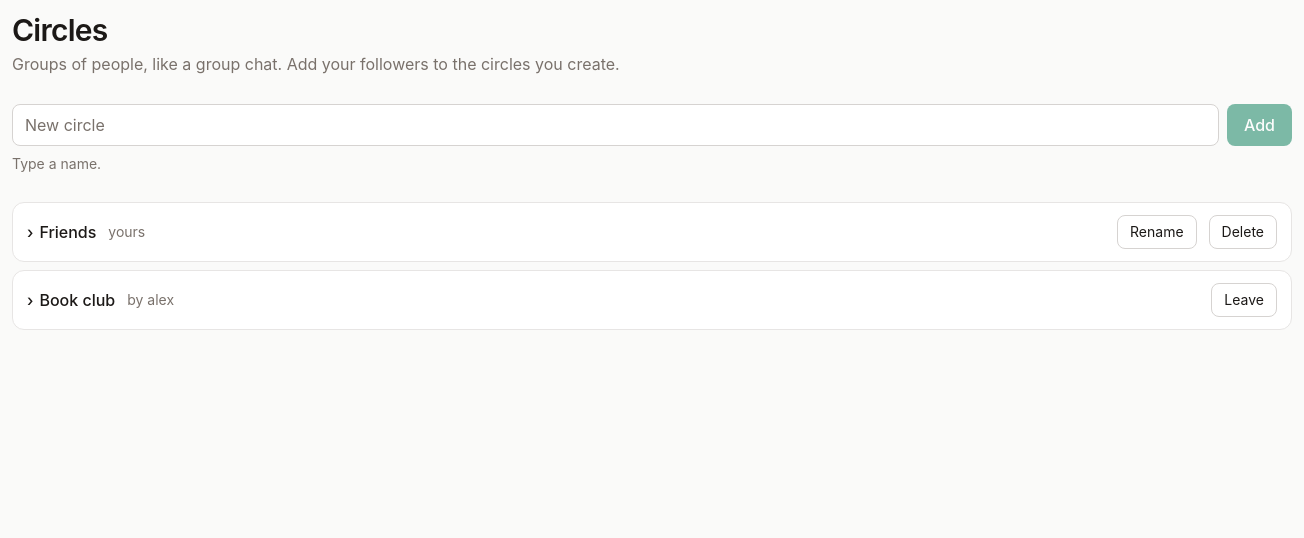
Scenario: Circles › explains a refused change in words, not the API's raw reply
What coordinates should you click on to do the following:
click the button "› Friends"
I would click on:
 (62, 232)
Its box is [27,220,96,244].
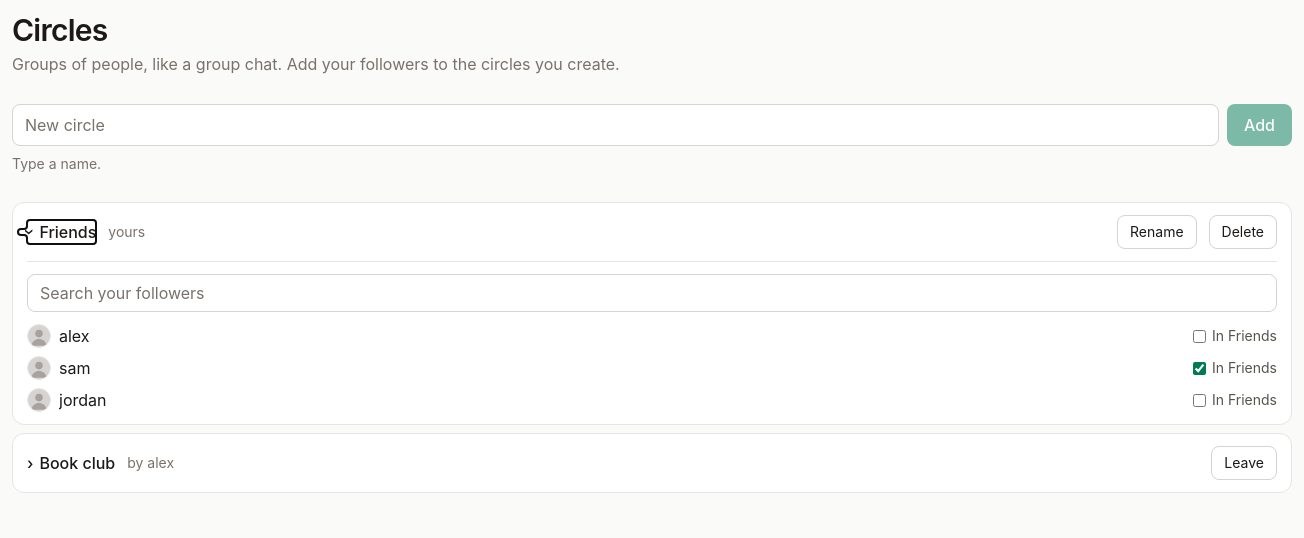
What coordinates should you click on to do the following:
click the checkbox named "alex in Friends"
I would click on:
 (1200, 336)
Its box is [1193,330,1206,342].
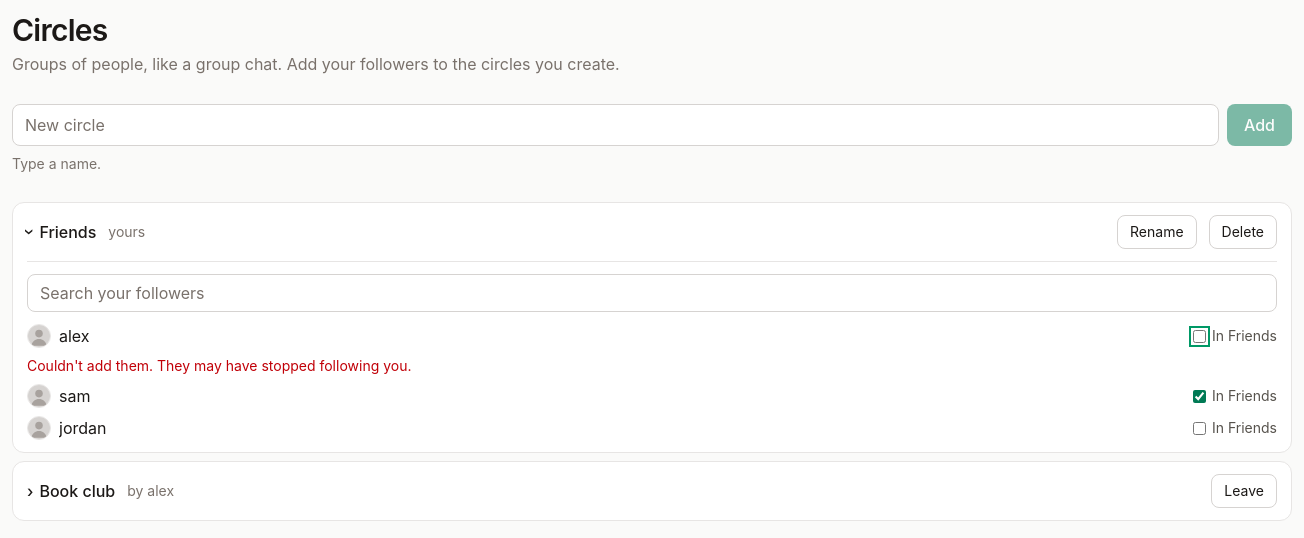
Check: the message does not show "Bad Request", box [27,357,412,374]
Check: the message reads "Couldn't add them. They may have stopped following you.", box [27,357,412,374]
What coordinates should you click on to do the following:
click the checkbox named "sam in Friends"
I would click on:
 (1200, 396)
Its box is [1193,390,1206,402].
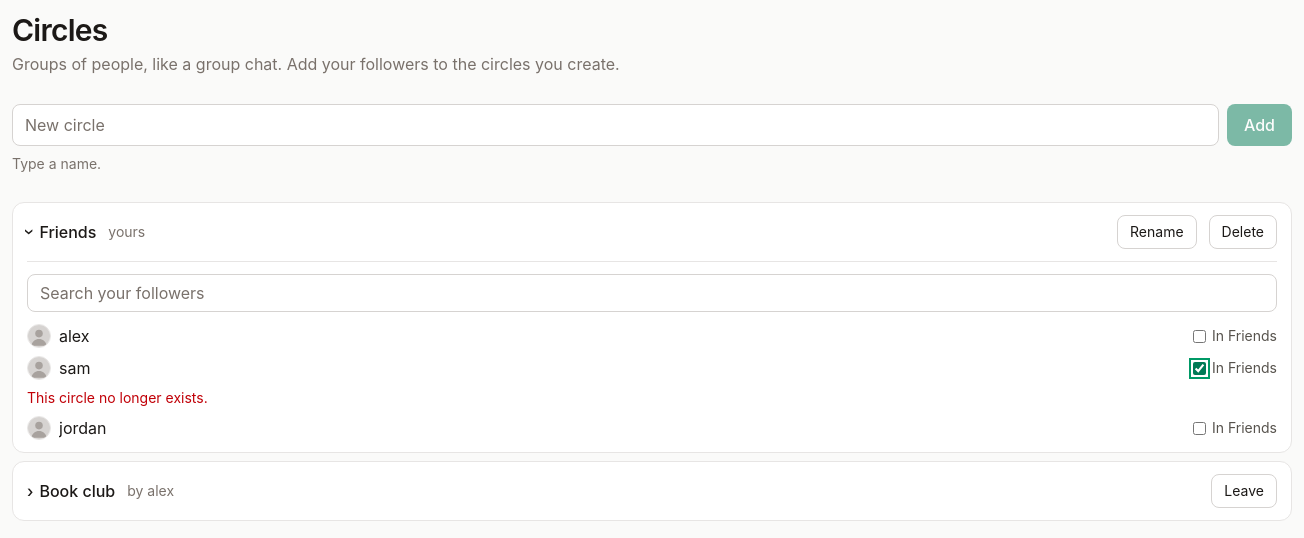
Check: the list item "Friends" does not show "Not Found", box [12,202,1292,453]
Check: the message reads "This circle no longer exists.", box [27,389,208,406]
